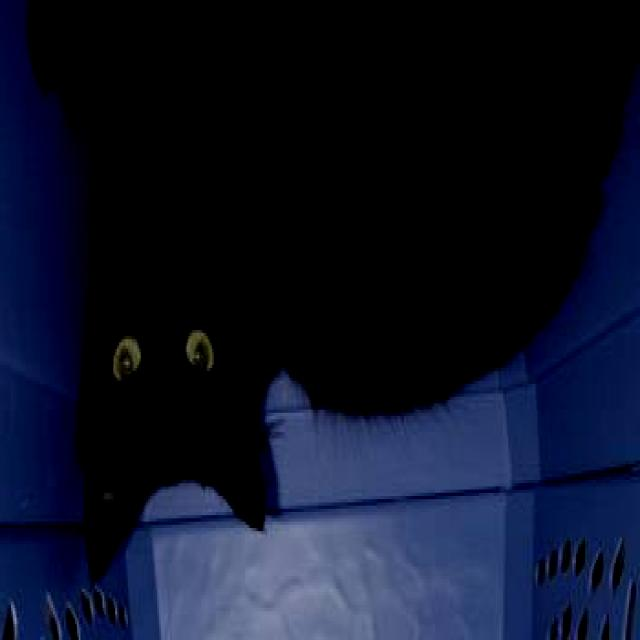Kucing: (57, 5, 598, 617)
